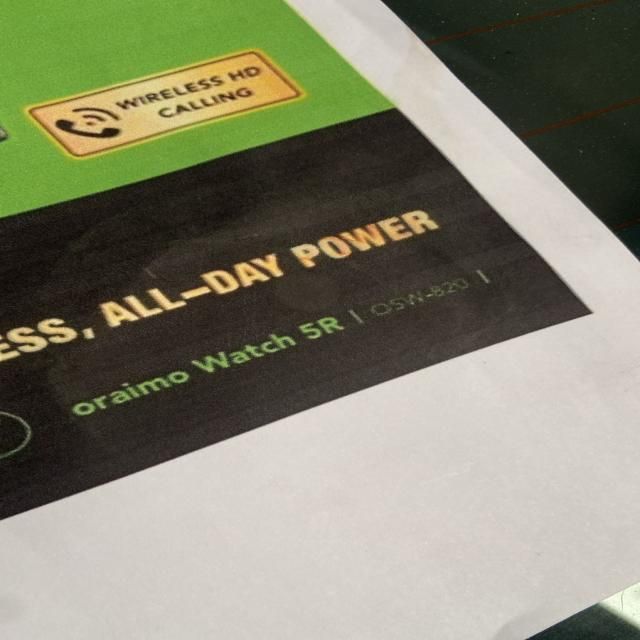Oraimo Watch 5R OSW-820: (71, 269, 508, 422)
